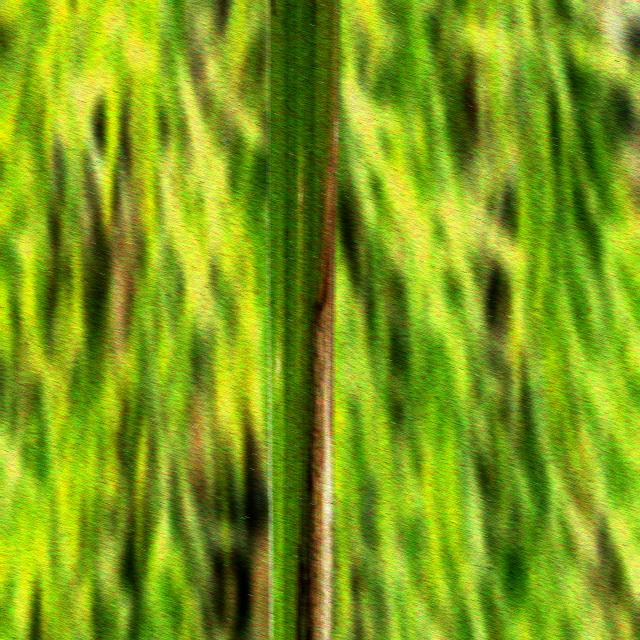BLB: (296, 77, 339, 640)
